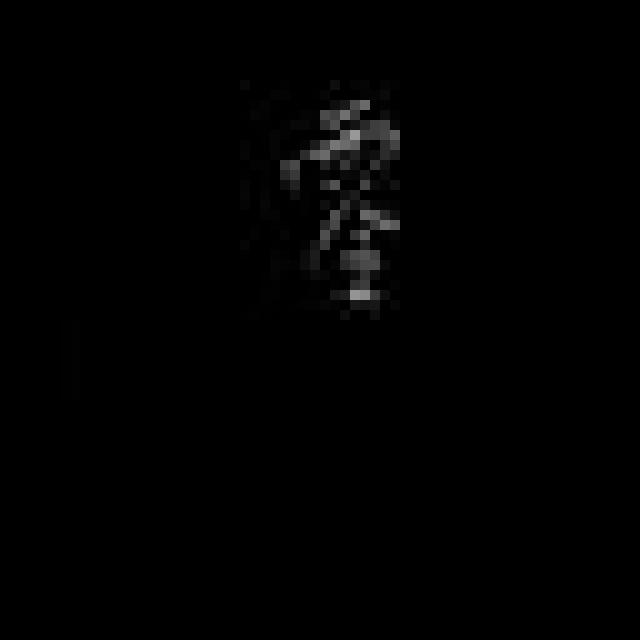0 -zero-: (278, 80, 414, 328)
